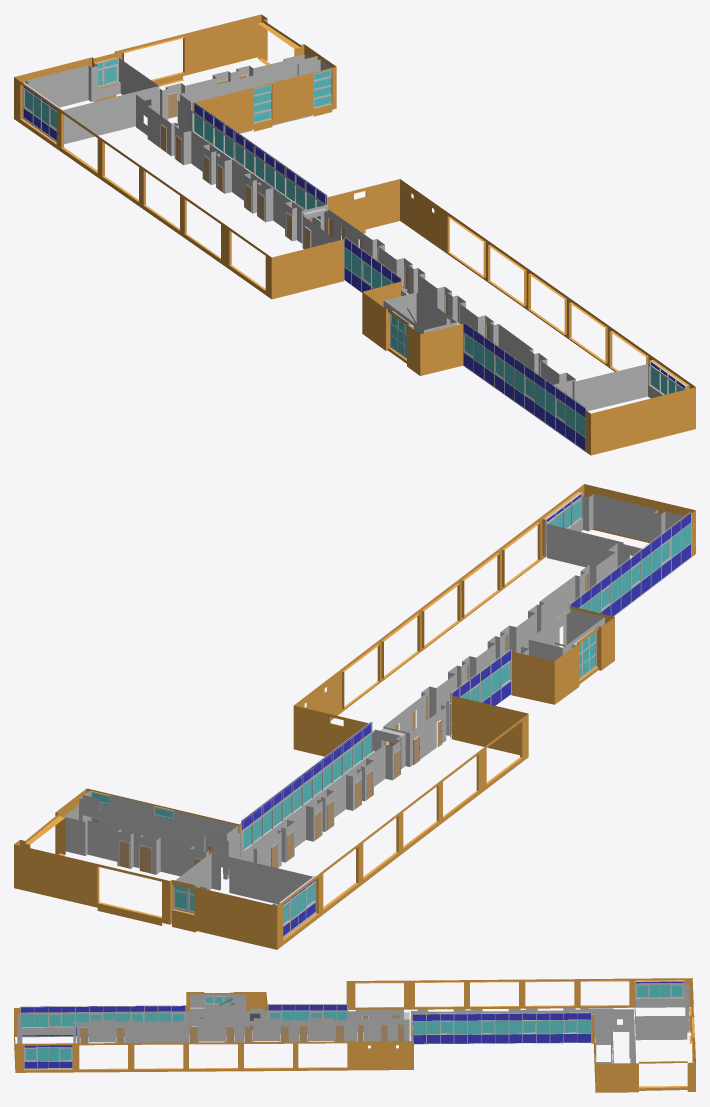
The picture shows the model from 3 angles, top to bottom: view 1: azimuth 30°, elevation 25°; view 2: azimuth 150°, elevation 25°; view 3: azimuth 270°, elevation 25°; orthographic projection. The views are drawn at different scales.
Parts seen in each view (by area): view 1: Dummy box004.030, Dummy box004.031, Dummy box004.029, Dummy box004.028, Dummy box004.235, Dummy box004.667, Dummy box004.032, Dummy box004.299, Dummy box004.614, Dummy box004.370, Dummy box004.358, Dummy box004.011 (+3 smaller); view 2: Dummy box004.030, Dummy box004.029, Dummy box004.031, Dummy box004.028, Dummy box004.614, Dummy box004.667, Dummy box004.032, Dummy box004.299, Dummy box004.235, Dummy box004.370, Dummy box004.011, Dummy box004.358 (+2 smaller); view 3: Dummy box004.028, Dummy box004.030, Dummy box004.299, Dummy box004.031, Dummy box004.667, Dummy box004.235, Dummy box004.029, Dummy box004.358, Dummy box004.629, Dummy box004.011, Dummy box004.614, Dummy box004.220 (+3 smaller).
Part boxes in pixels (x1,y1,x2,y2): Dummy box004.030: [14, 14, 343, 299]; Dummy box004.031: [327, 179, 695, 455]; Dummy box004.029: [136, 54, 328, 243]; Dummy box004.028: [302, 208, 575, 393]; Dummy box004.235: [26, 58, 159, 144]; Dummy box004.667: [463, 322, 587, 451]; Dummy box004.032: [362, 281, 463, 375]; Dummy box004.299: [192, 102, 327, 221]; Dummy box004.614: [553, 364, 684, 411]; Dummy box004.370: [180, 56, 331, 133]; Dummy box004.358: [344, 236, 402, 292]; Dummy box004.011: [383, 292, 459, 333]; Dummy box004.030: [14, 695, 528, 949]; Dummy box004.029: [63, 729, 400, 889]; Dummy box004.031: [293, 484, 695, 756]; Dummy box004.028: [380, 543, 641, 768]; Dummy box004.614: [546, 494, 685, 567]; Dummy box004.667: [569, 512, 691, 616]; Dummy box004.032: [511, 606, 614, 704]; Dummy box004.299: [241, 722, 372, 851]; Dummy box004.235: [175, 852, 312, 905]; Dummy box004.370: [79, 790, 238, 879]; Dummy box004.011: [528, 608, 604, 660]; Dummy box004.358: [450, 649, 511, 737]; Dummy box004.028: [76, 1008, 409, 1043]; Dummy box004.030: [346, 978, 695, 1092]; Dummy box004.299: [413, 1012, 591, 1044]; Dummy box004.031: [14, 1007, 413, 1072]; Dummy box004.667: [20, 1005, 185, 1037]; Dummy box004.235: [634, 983, 689, 1040]; Dummy box004.029: [411, 1008, 635, 1063]; Dummy box004.358: [268, 1004, 347, 1033]; Dummy box004.629: [24, 1045, 72, 1069]; Dummy box004.011: [190, 994, 246, 1034]; Dummy box004.614: [17, 1012, 75, 1043]; Dummy box004.220: [635, 980, 684, 997].
Size of the model in its own units: 2211 by 449 by 7452.
